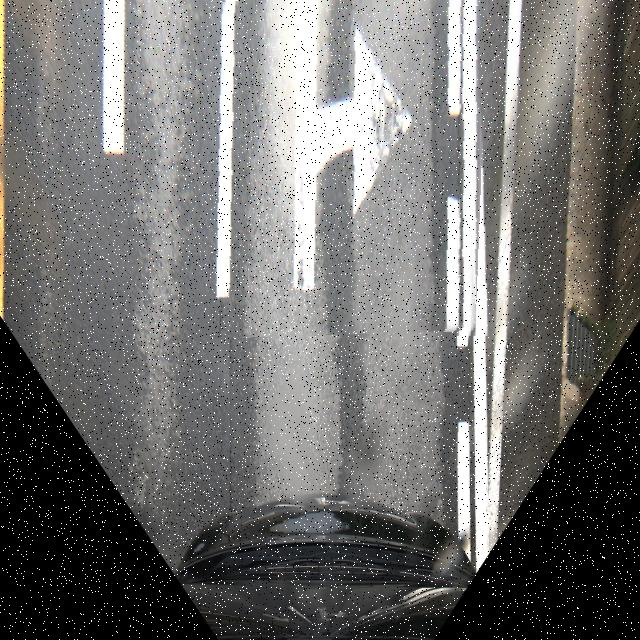forward_right: (213, 0, 488, 339)
